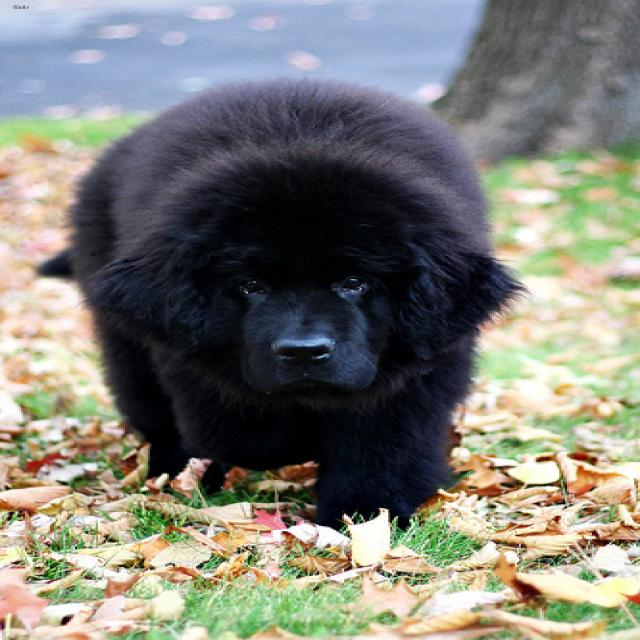dog-newfoundland: (12, 70, 536, 540)
